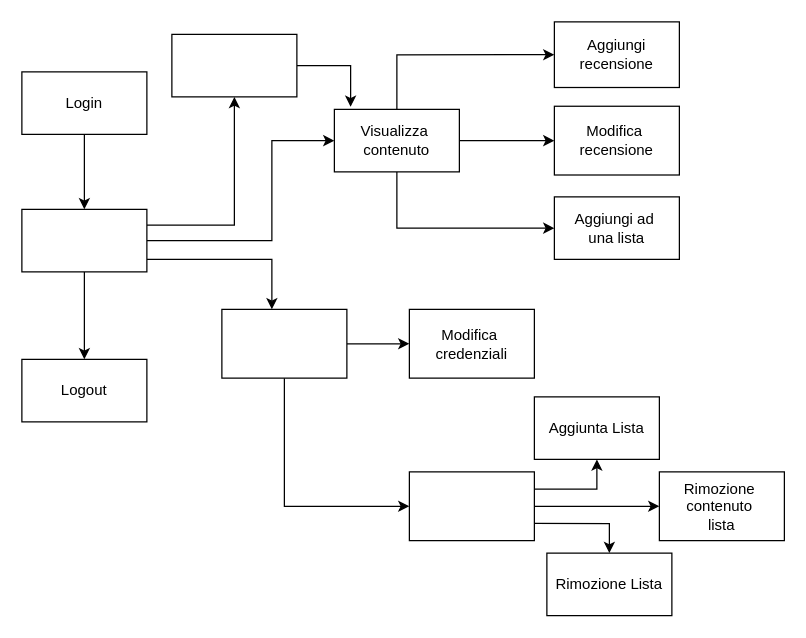
The diagram is 806 pixels wide and 638 high, and some of its shapes have lost their labels. The shapes that lost their labels are listed below. From the top down, each one's centre as x and y in pixels, then its label:
[234,65]: Ricerca contenuto
[84,240]: Home
[284,343]: Visualizza profilo
[471,506]: Gestione liste
